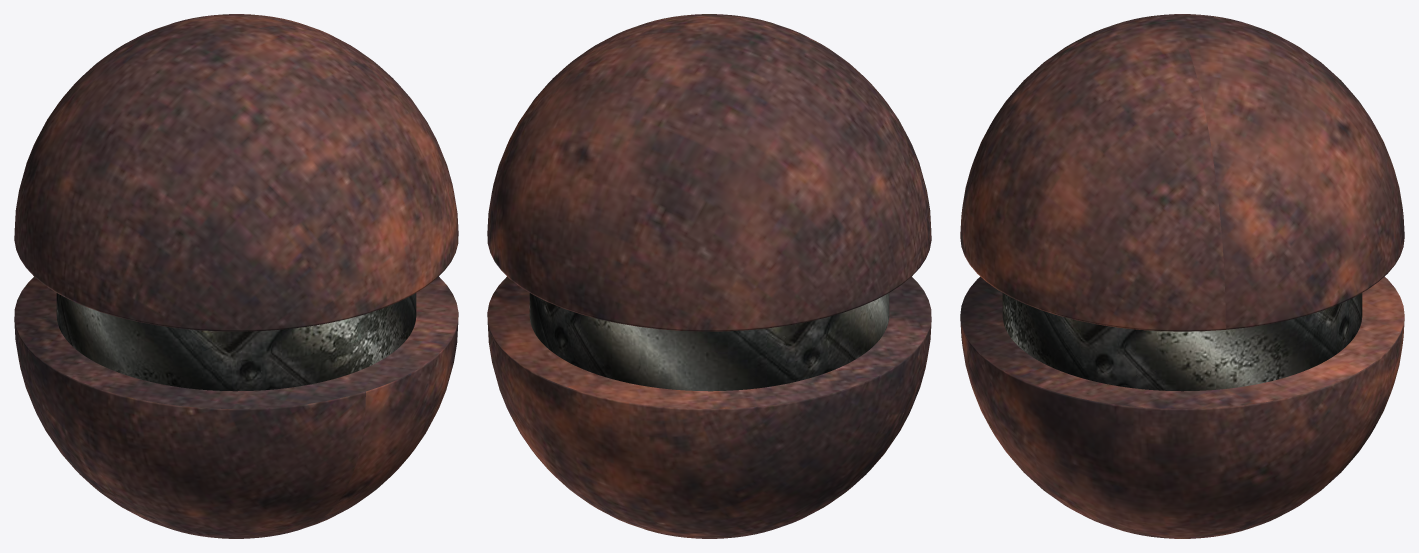
The model's file is droid_anim_000017.obj.
The picture shows the model from 3 angles, left to right: view 1: azimuth 30°, elevation 25°; view 2: azimuth 150°, elevation 25°; view 3: azimuth 270°, elevation 25°; orthographic projection.
Parts seen in each view (by area): view 1: Sphere.004, Sphere.005, Cylinder.002; view 2: Sphere.004, Sphere.005, Cylinder.002; view 3: Sphere.004, Sphere.005, Cylinder.002.
Part boxes in pixels (box(x1,y1,x2,y2)): Sphere.004: box(14, 14, 458, 331); Sphere.005: box(14, 276, 458, 538); Cylinder.002: box(56, 293, 416, 391); Sphere.004: box(487, 14, 931, 331); Sphere.005: box(487, 276, 931, 538); Cylinder.002: box(529, 293, 889, 391); Sphere.004: box(960, 14, 1404, 331); Sphere.005: box(960, 276, 1404, 538); Cylinder.002: box(1002, 293, 1362, 391).
Bounding box in the file's own units: 2 × 2.4 × 2.
3 materials, 3 textured.
